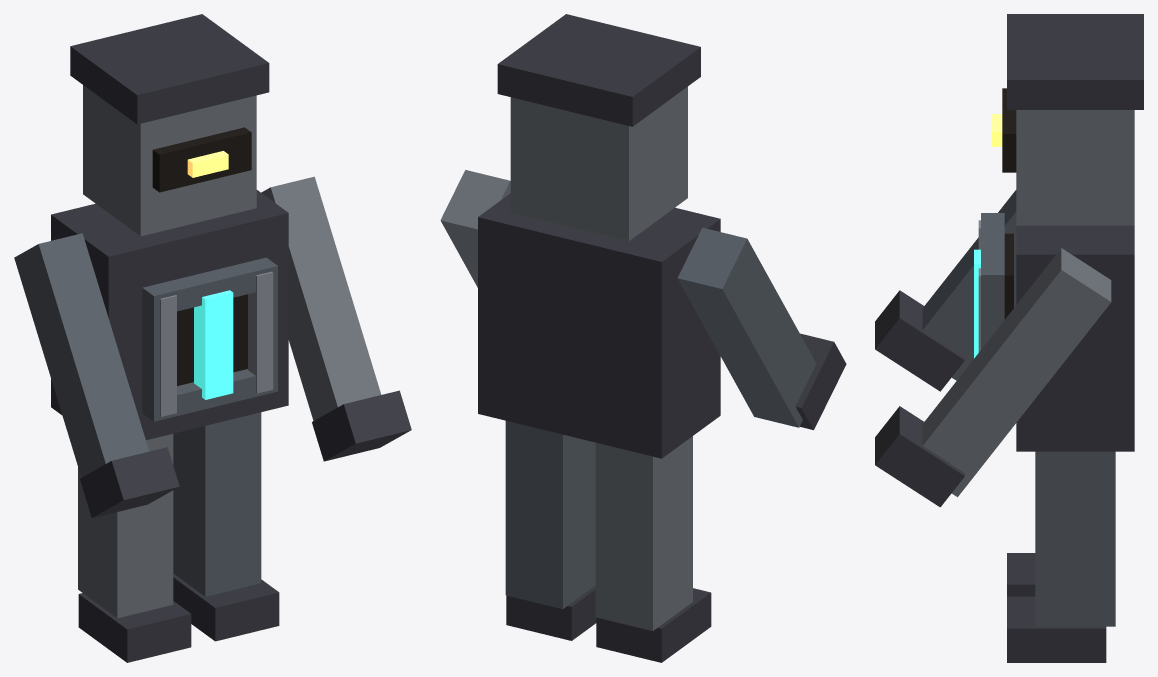
The model's file is monsters__blackoutHusk.glb.
The picture shows the model from 3 angles, left to right: view 1: azimuth 30°, elevation 25°; view 2: azimuth 150°, elevation 25°; view 3: azimuth 270°, elevation 25°; orthographic projection. The views are drawn at different scales.
Parts seen in each view (by area): view 1: monsters__blackoutHusk, rig_armL, rig_legR, rig_armR, rig_legL; view 2: monsters__blackoutHusk, rig_legL, rig_legR, rig_armL, rig_armR; view 3: monsters__blackoutHusk, rig_armR, rig_legR, rig_armL, rig_legL.
Part boxes in pixels (<box>): monsters__blackoutHusk: <box>51,14,288,440</box>; rig_armL: <box>14,233,179,517</box>; rig_legR: <box>173,412,279,641</box>; rig_armR: <box>261,176,411,461</box>; rig_legL: <box>78,434,191,662</box>; monsters__blackoutHusk: <box>478,14,720,458</box>; rig_legL: <box>595,436,711,662</box>; rig_legR: <box>505,421,596,640</box>; rig_armL: <box>677,227,846,429</box>; rig_armR: <box>440,170,510,287</box>; monsters__blackoutHusk: <box>974,14,1143,451</box>; rig_armR: <box>875,248,1111,507</box>; rig_legR: <box>1007,451,1115,662</box>; rig_armL: <box>875,190,1016,391</box>; rig_legL: <box>1007,553,1035,596</box>.
Bounding box in the file's own units: 1.44 × 2.7 × 1.14.
